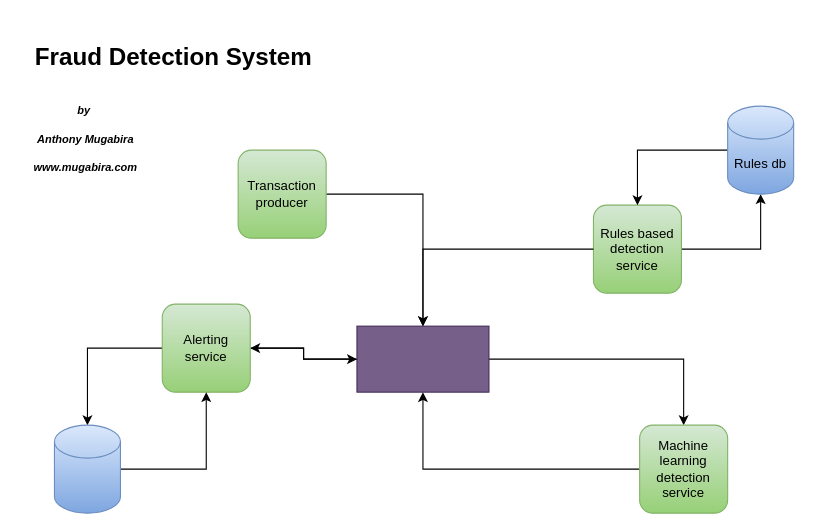
Image size: 813x532. Some labels were removed from this diagram. The shapes that lost their labels are listed below. From the top down, each one's centre as x and y in pixels, then its label:
At (x=422, y=358): "Central messaging bus (kafka)".
At (x=86, y=468): "Alert db".
